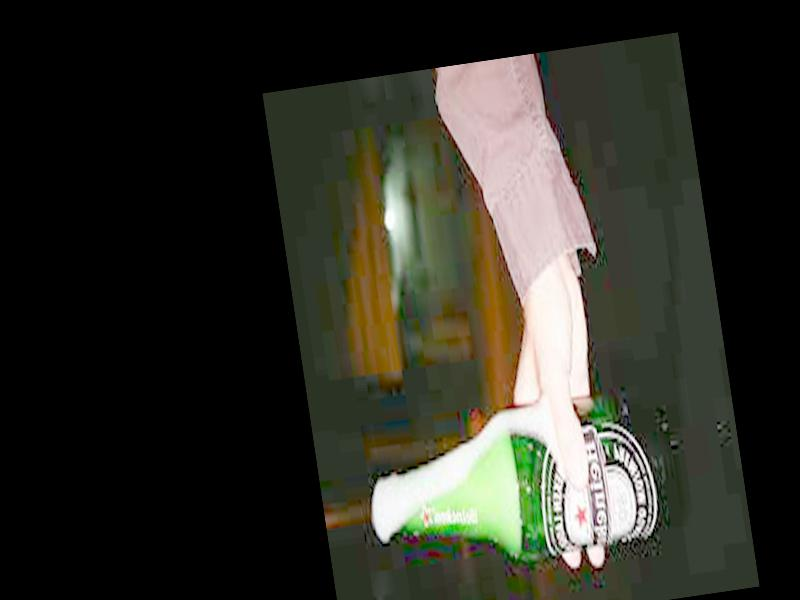Beer: (373, 386, 670, 584)
